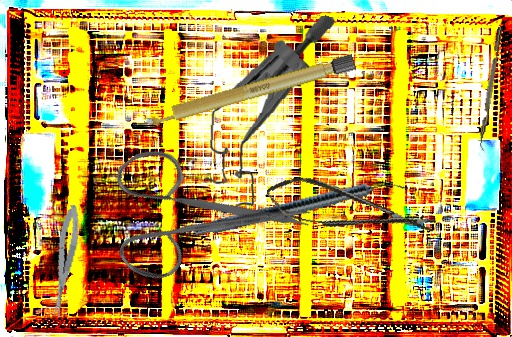Chopper: (476, 26, 509, 153)
Handpiece: (191, 171, 409, 244)
Iris Scissors: (76, 90, 318, 328)
Micro Scissor: (262, 168, 439, 253), (44, 203, 85, 319)
Scalpel Handle: (141, 53, 357, 130)
Speculum: (198, 8, 339, 218)
